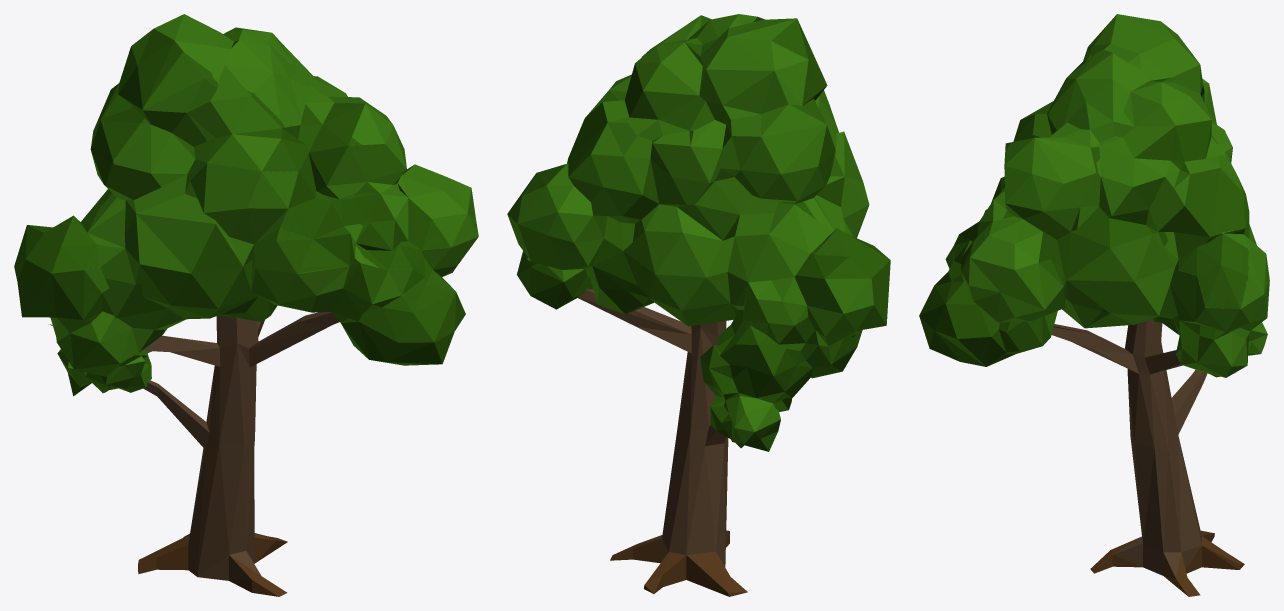
File: tree6-test.glb
3 views of the same model, side by side, from view 1: azimuth 30°, elevation 25°; view 2: azimuth 150°, elevation 25°; view 3: azimuth 270°, elevation 25° (orthographic). The views are drawn at different scales.
Visible parts, largest first — view 1: Tree6; view 2: Tree6; view 3: Tree6.
Part boxes in pixels (bbox=[...]): Tree6: bbox=[14, 14, 478, 596]; Tree6: bbox=[507, 14, 890, 596]; Tree6: bbox=[919, 14, 1269, 596].
Bounding box in the file's own units: 1.74 × 2.6 × 1.6.
1 material, 1 textured.
